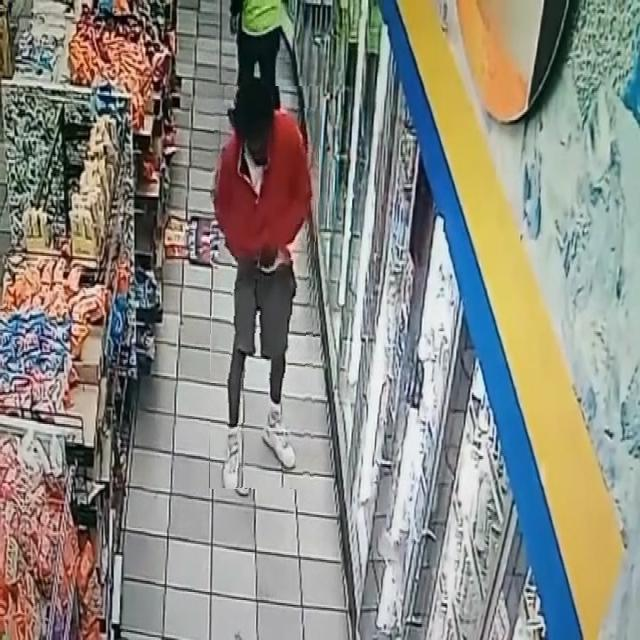Shoplifting: (210, 86, 319, 489)
